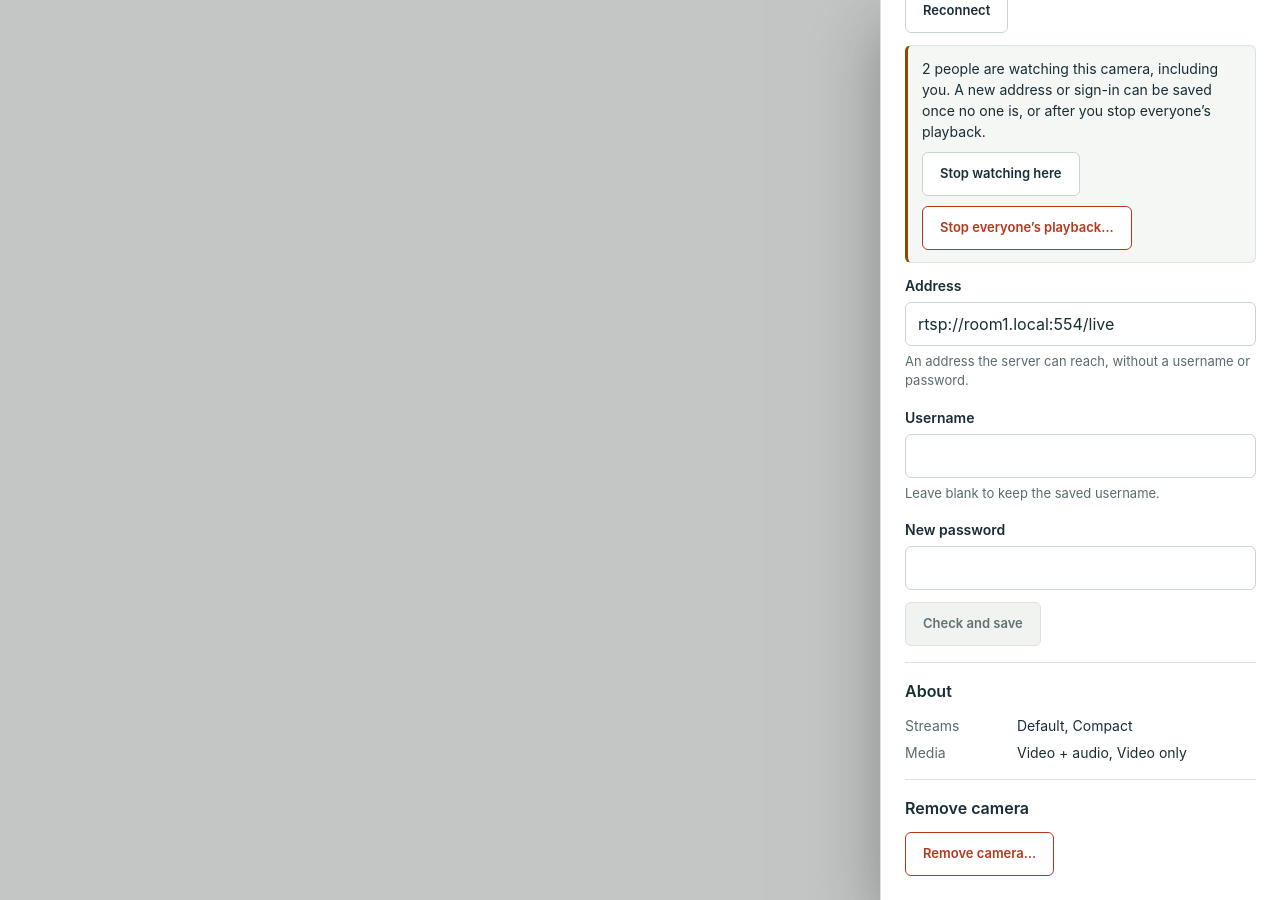
it: draws every management, recovery, rail and menu button in a role
The image size is (1280, 900).
Later steps or results of the test are not shown.
(page scrolled)
Click the button "Remove camera…". click: coordinates (980, 854)
box: [905,832,1054,876]
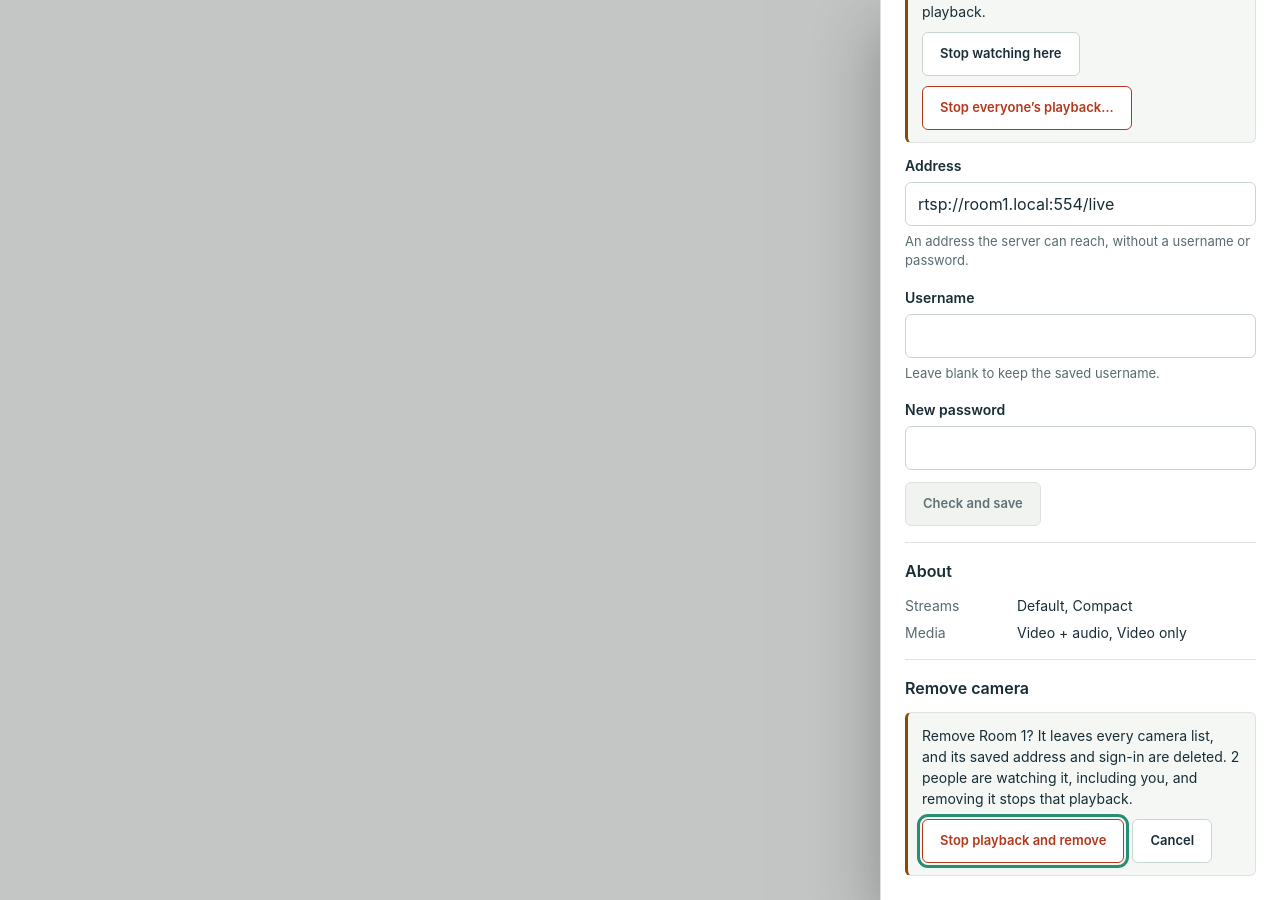
Now the element "?" is shown, box [905,712,1256,876]
